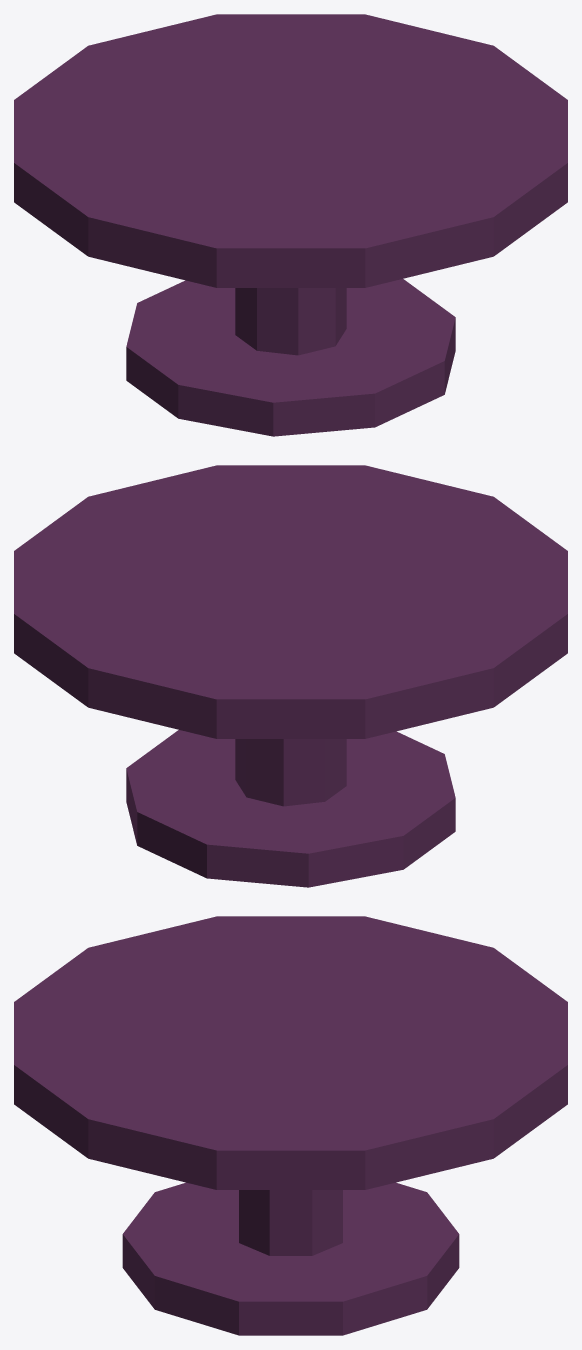
The model's file is table-large-circular.obj.
3 views of the same model, one above another, from view 1: azimuth 30°, elevation 25°; view 2: azimuth 150°, elevation 25°; view 3: azimuth 270°, elevation 25° (orthographic).
Parts seen in each view (by area): view 1: faceted-round-top, warm-round-base, chunky-pedestal; view 2: faceted-round-top, warm-round-base, chunky-pedestal; view 3: faceted-round-top, warm-round-base, chunky-pedestal.
Boxes of the visible parts, x1,y1,x2,y2 form: faceted-round-top: [14, 14, 567, 287]; warm-round-base: [126, 279, 455, 436]; chunky-pedestal: [235, 288, 346, 355]; faceted-round-top: [14, 465, 567, 738]; warm-round-base: [126, 730, 455, 887]; chunky-pedestal: [235, 739, 346, 806]; faceted-round-top: [14, 916, 567, 1189]; warm-round-base: [122, 1182, 459, 1335]; chunky-pedestal: [239, 1190, 342, 1255].
Size of the model in its own units: 1.78 by 0.83 by 1.78.
